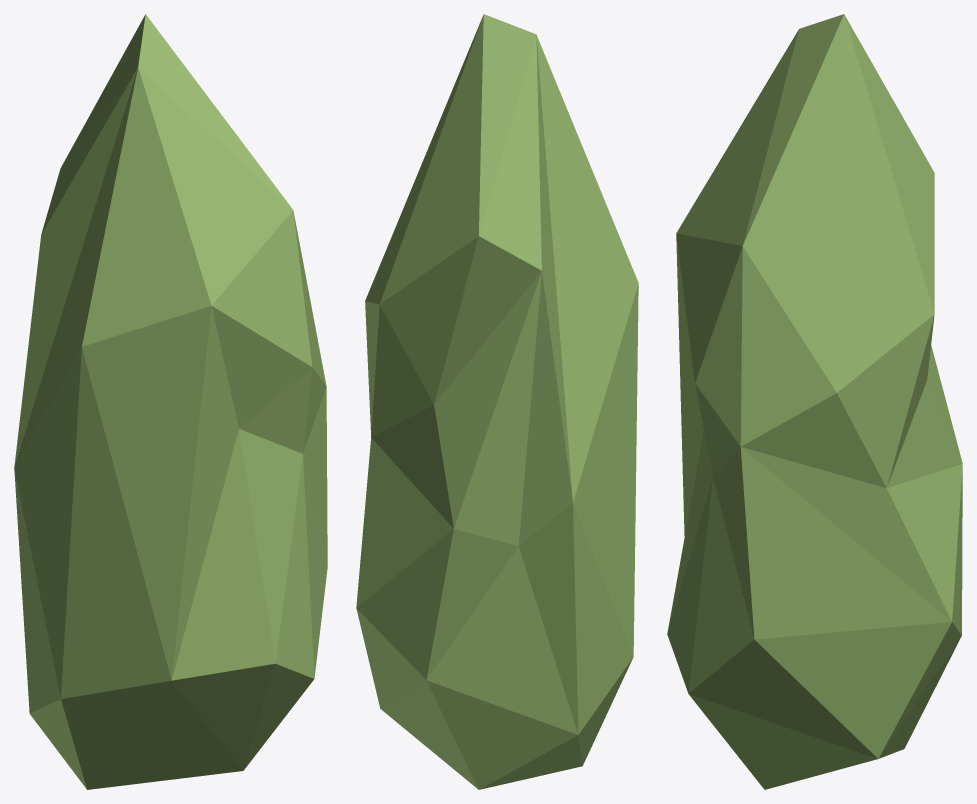
Rendered from LigustrumOvalifolium.glb.
3 views of the same model, side by side, from view 1: azimuth 30°, elevation 25°; view 2: azimuth 150°, elevation 25°; view 3: azimuth 270°, elevation 25° (orthographic).
Visible parts, largest first — view 1: Crown; view 2: Crown; view 3: Crown.
Boxes of the visible parts, x1,y1,x2,y2 form: Crown: [14, 14, 327, 789]; Crown: [356, 14, 638, 789]; Crown: [667, 14, 962, 789].
Bounding box in the file's own units: 1.11 × 3.09 × 1.11.
